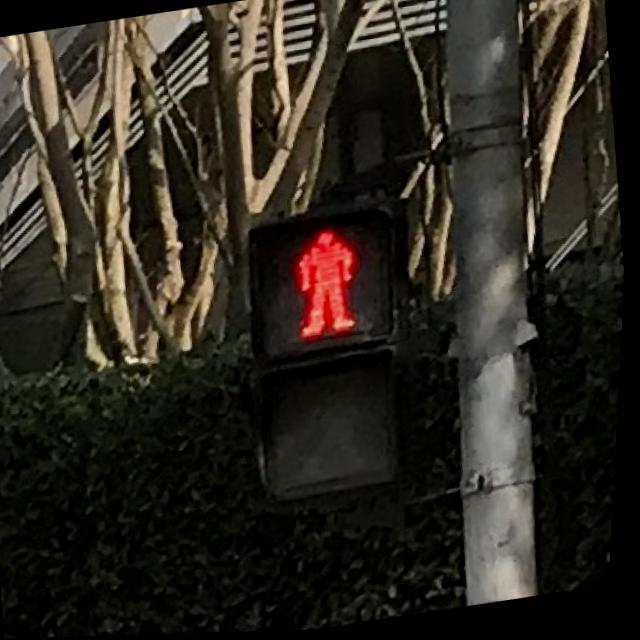red_light: (269, 212, 400, 350)
